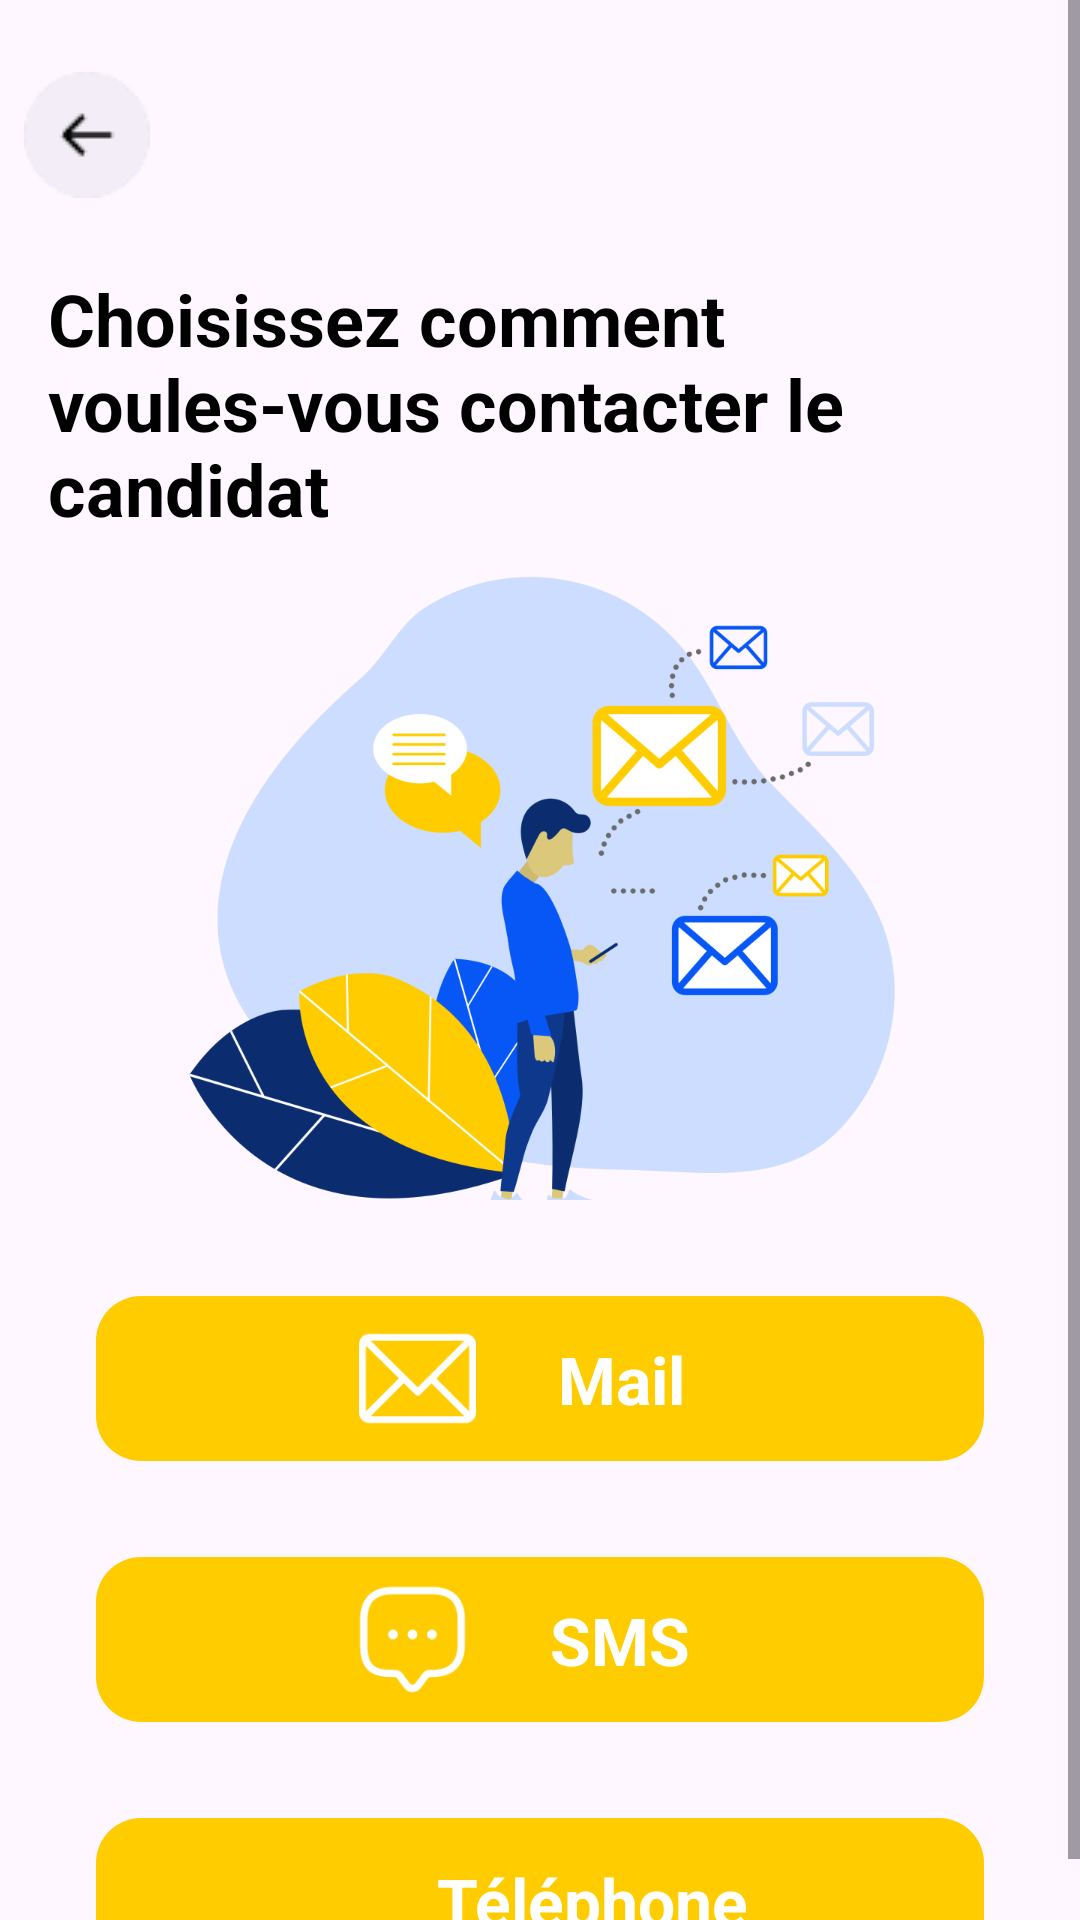

Where to tap for icons on this 1080x1920 app screen, as (x=x, y=y):
back: (x=87, y=135)
texte: (x=412, y=1639)
